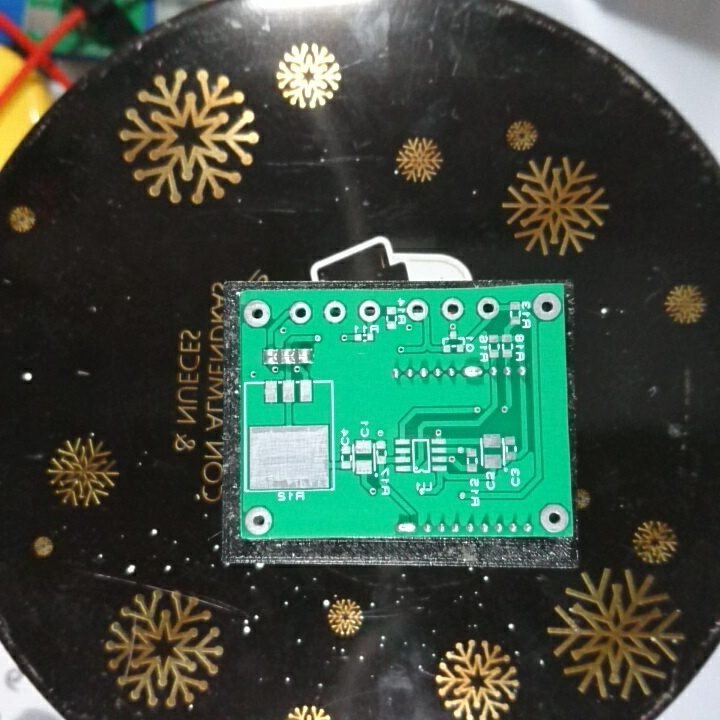F: (536, 500, 570, 534), (242, 298, 276, 331), (243, 505, 276, 537), (529, 291, 562, 322), (285, 298, 313, 325), (322, 298, 348, 327), (404, 296, 431, 323), (439, 295, 465, 323), (476, 294, 501, 323), (356, 297, 382, 324)
P: (460, 362, 484, 382), (393, 518, 419, 536)
